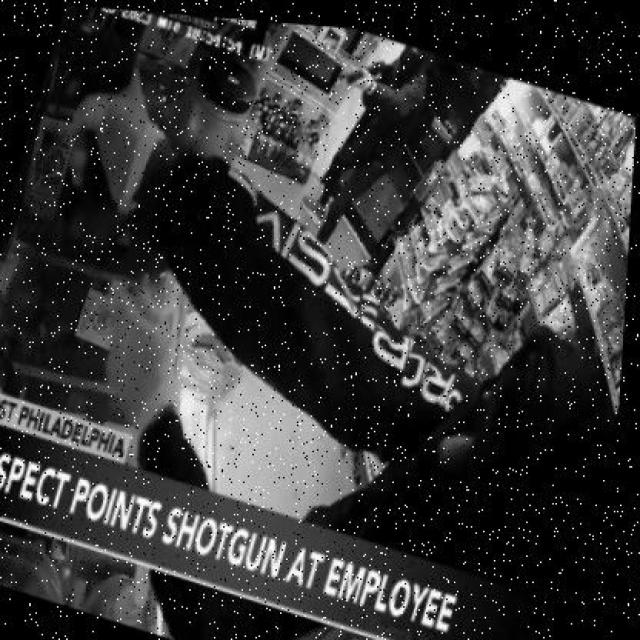weapon: (0, 8, 140, 158), (342, 58, 388, 88)
